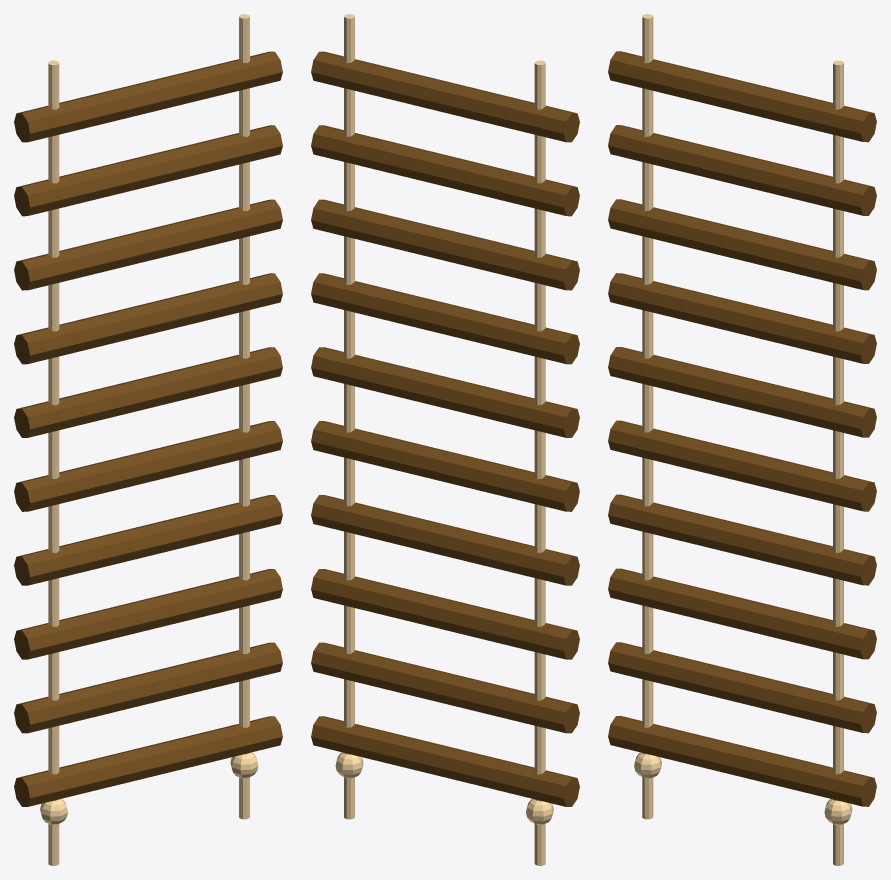
The model's file is Ladder.fbx.
The picture shows the model from 3 angles, left to right: view 1: azimuth 30°, elevation 25°; view 2: azimuth 150°, elevation 25°; view 3: azimuth 330°, elevation 25°; orthographic projection.
Parts seen in each view (by area): view 1: Wooden_stake, Wooden_stake2, Wooden_stake8, Wooden_stake3, Wooden_stake5, Wooden_stake4, Wooden_stake1, Wooden_stake6, Wooden_stake9, Wooden_stake7, Rope_left, Rope_right (+2 smaller); view 2: Wooden_stake, Wooden_stake2, Wooden_stake8, Wooden_stake3, Wooden_stake5, Wooden_stake4, Wooden_stake1, Wooden_stake6, Wooden_stake9, Wooden_stake7, Rope_left, Rope_right (+2 smaller); view 3: Wooden_stake6, Wooden_stake5, Wooden_stake7, Wooden_stake1, Wooden_stake2, Wooden_stake3, Wooden_stake9, Wooden_stake4, Wooden_stake, Wooden_stake8, Rope_left, Rope_right (+2 smaller).
Boxes of the visible parts, <box> form: Wooden_stake: <box>14,51,282,142</box>; Wooden_stake2: <box>14,199,282,290</box>; Wooden_stake8: <box>14,642,282,733</box>; Wooden_stake3: <box>14,273,282,364</box>; Wooden_stake5: <box>14,421,282,511</box>; Wooden_stake4: <box>14,347,282,437</box>; Wooden_stake1: <box>14,125,282,216</box>; Wooden_stake6: <box>14,495,282,585</box>; Wooden_stake9: <box>14,716,282,806</box>; Wooden_stake7: <box>14,569,282,659</box>; Rope_left: <box>48,60,59,865</box>; Rope_right: <box>239,14,249,819</box>; Wooden_stake: <box>311,51,579,142</box>; Wooden_stake2: <box>311,199,579,290</box>; Wooden_stake8: <box>311,642,579,733</box>; Wooden_stake3: <box>311,273,579,364</box>; Wooden_stake5: <box>311,421,579,511</box>; Wooden_stake4: <box>311,347,579,437</box>; Wooden_stake1: <box>311,125,579,216</box>; Wooden_stake6: <box>311,495,579,585</box>; Wooden_stake9: <box>311,716,579,806</box>; Wooden_stake7: <box>311,569,579,659</box>; Rope_left: <box>534,60,545,865</box>; Rope_right: <box>344,14,354,819</box>; Wooden_stake6: <box>608,494,876,585</box>; Wooden_stake5: <box>608,420,876,511</box>; Wooden_stake7: <box>608,568,876,659</box>; Wooden_stake1: <box>608,125,876,215</box>; Wooden_stake2: <box>608,199,876,290</box>; Wooden_stake3: <box>608,273,876,363</box>; Wooden_stake9: <box>608,716,876,806</box>; Wooden_stake4: <box>608,347,876,437</box>; Wooden_stake: <box>608,51,876,142</box>; Wooden_stake8: <box>608,642,876,733</box>; Rope_left: <box>642,14,653,819</box>; Rope_right: <box>833,60,843,865</box>.
Bounding box in the file's own units: 14.33 × 43.36 × 1.58.
